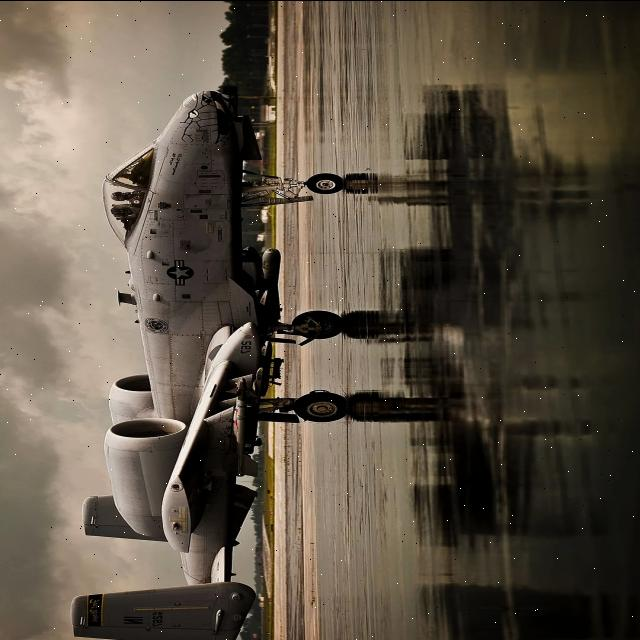A10: (36, 64, 420, 640)
